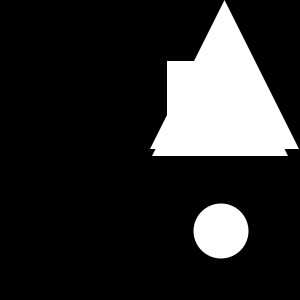circle: (167, 61, 255, 149)
rectangle: (194, 204, 248, 258)
triangle: (150, 0, 299, 149), (152, 20, 288, 156)
